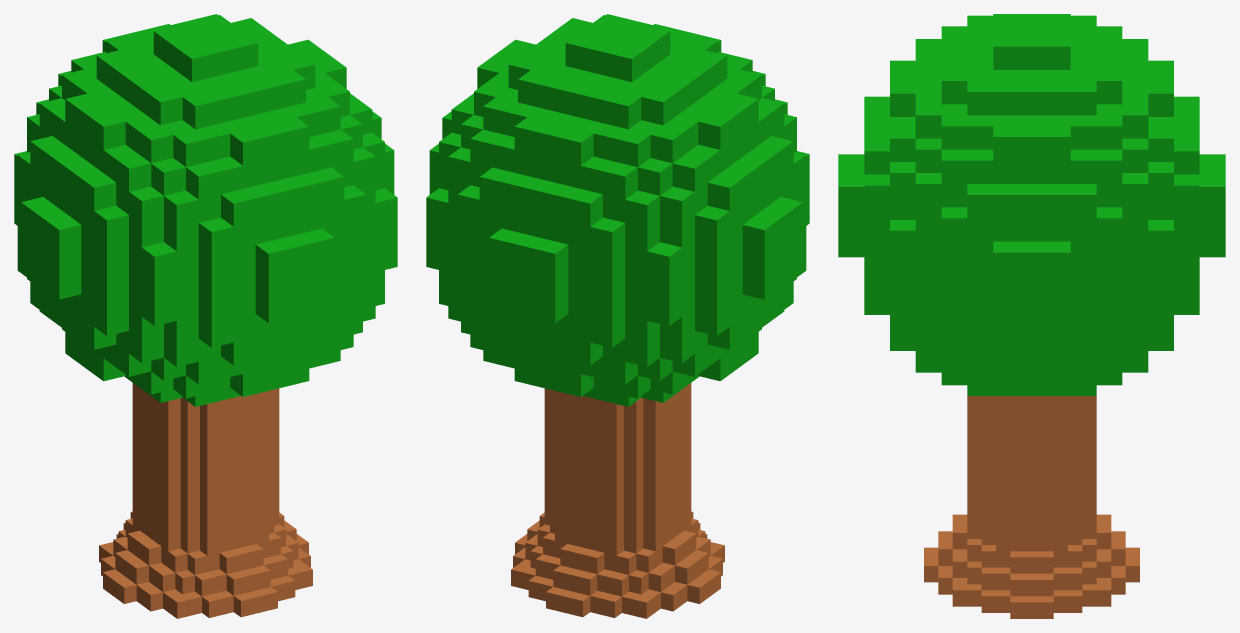
Rendered from block_tree.glb.
3 renders of one model, left to right at view 1: azimuth 30°, elevation 25°; view 2: azimuth 150°, elevation 25°; view 3: azimuth 270°, elevation 25°, orthographic.
Visible parts, largest first — view 1: 球, 円柱; view 2: 球, 円柱; view 3: 球, 円柱.
Part boxes in pixels (x1,y1,x2,y2): 球: (14, 14, 397, 406); 円柱: (99, 383, 312, 618); 球: (426, 14, 809, 406); 円柱: (511, 383, 724, 618); 球: (838, 14, 1225, 395); 円柱: (924, 396, 1139, 618).
Size of the model in its own units: 2.08 by 3.22 by 2.08.
